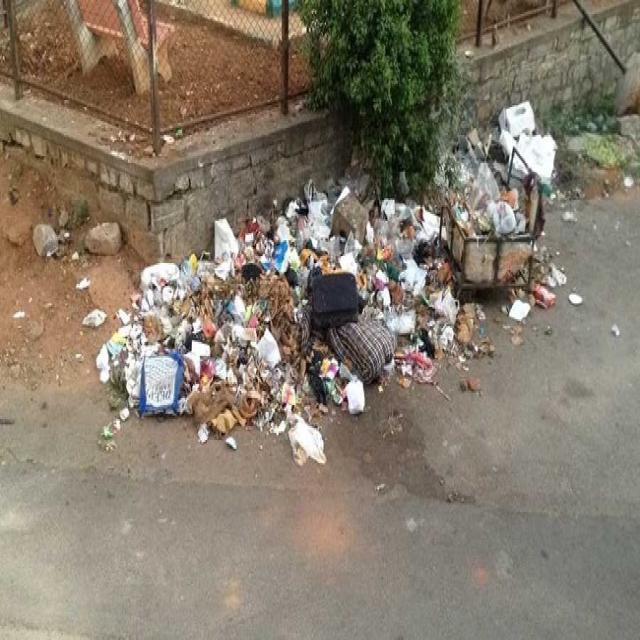garbage: (62, 103, 627, 483)
